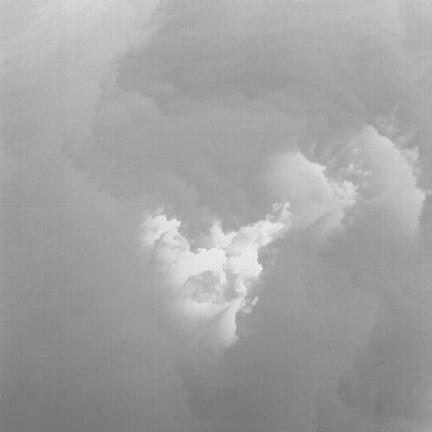flukeprints: (179, 248, 226, 279), (230, 242, 261, 286), (143, 214, 180, 246)
